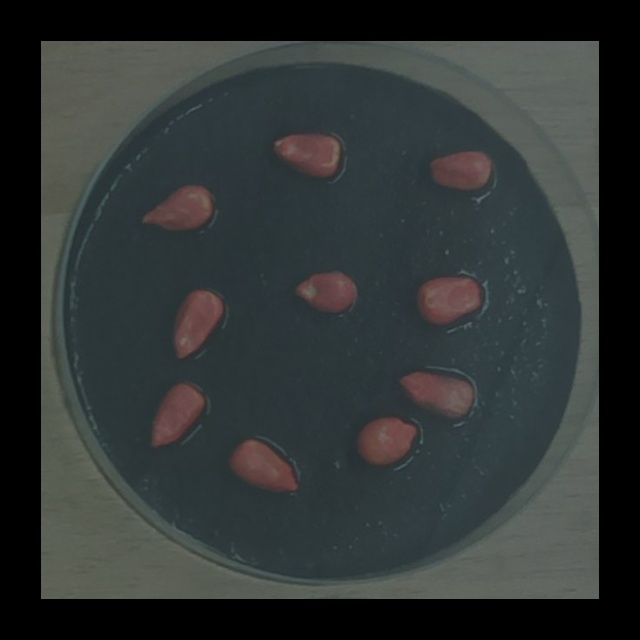Zea mays: (223, 432, 303, 497), (165, 283, 228, 365), (143, 377, 209, 455), (135, 180, 220, 238), (393, 363, 476, 422), (408, 270, 484, 333), (265, 128, 346, 183), (352, 412, 421, 471), (423, 145, 497, 197), (288, 267, 359, 319)
